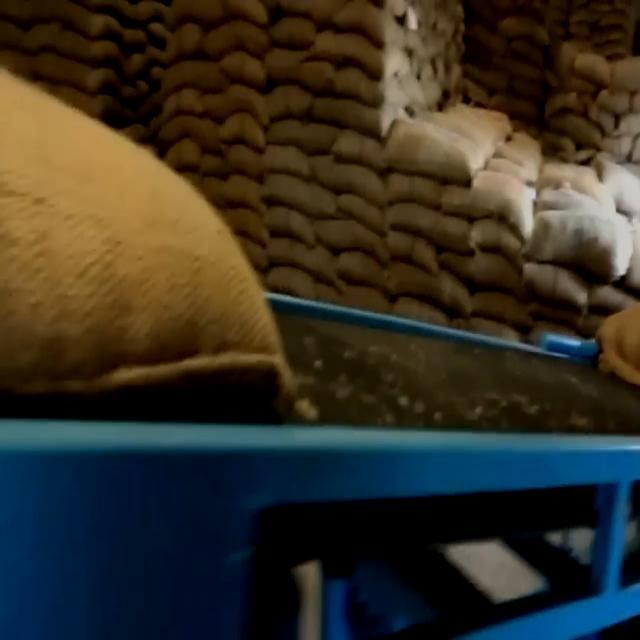gunny_bag: (0, 51, 312, 430), (518, 200, 635, 292), (382, 116, 477, 184), (442, 170, 533, 240), (386, 196, 478, 253), (428, 243, 518, 297), (380, 260, 470, 313), (314, 94, 408, 140), (269, 237, 346, 292), (34, 50, 126, 94), (324, 31, 409, 78), (225, 143, 315, 184), (320, 216, 390, 268), (203, 14, 275, 64), (262, 175, 341, 220), (155, 56, 231, 102), (462, 288, 538, 332), (333, 0, 405, 46), (35, 0, 108, 42), (54, 27, 122, 72), (334, 128, 398, 175), (156, 115, 228, 154), (342, 248, 399, 297), (216, 78, 272, 126), (264, 203, 317, 252), (488, 9, 546, 49), (485, 87, 547, 123), (263, 14, 323, 50), (219, 118, 269, 154), (572, 52, 614, 86), (468, 59, 514, 90)
